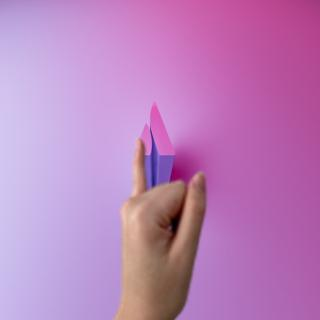Fine: (109, 128, 222, 315)
